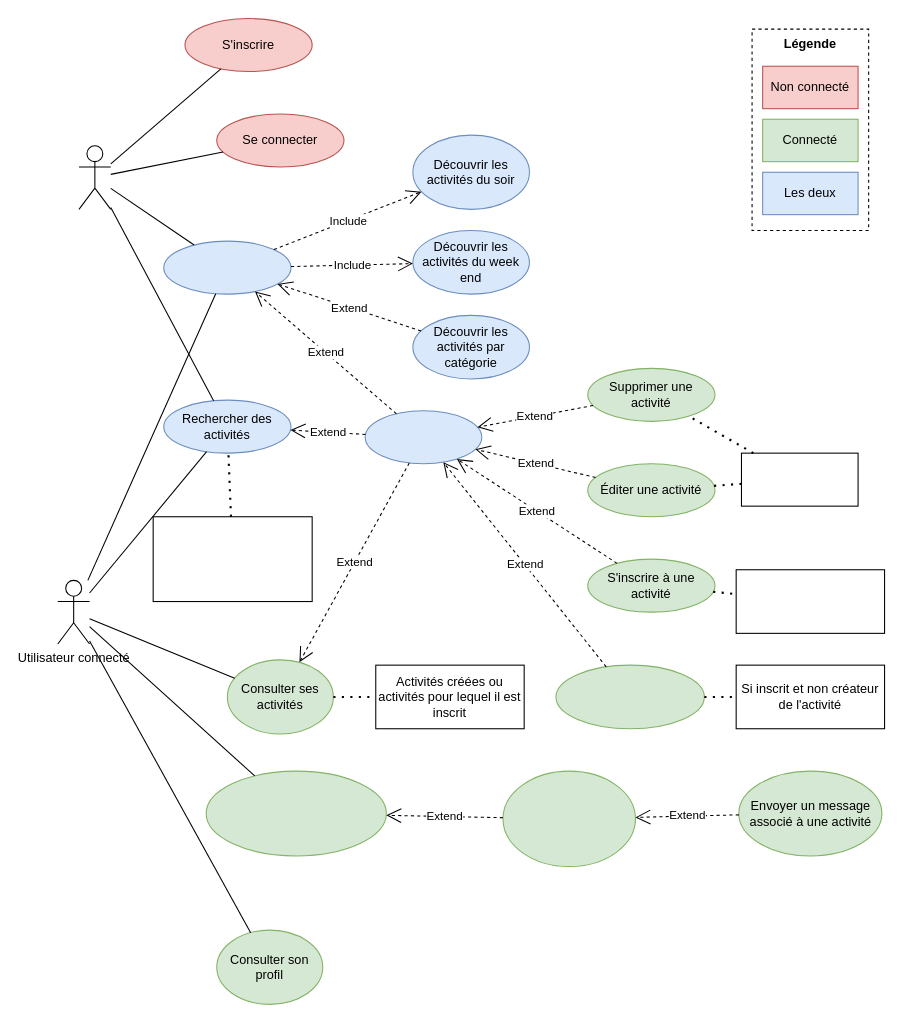
Some shapes in this 903 by 1023 pixel diagram are drawn without their labels. The shapes that lost their labels are listed below. From the top down, each one's centre as x and y in pixels, then its label:
At pixel 94 177: "Utilisateur non connecté".
At pixel 227 267: "Découvrir des activités".
At pixel 423 437: "Consulter une activité".
At pixel 799 479: "Si créateur de l'activité".
At pixel 232 559: "Par mots clés (titre, description, lieu), dates, categorie, coût, nb de personne".
At pixel 810 601: "Si non inscrit, non créateur de l'activité et place restante > 0".
At pixel 629 696: "Se désinscrire à une activité".
At pixel 295 813: "Consulter la liste des conversations par activité".
At pixel 568 818: "Consulter les messages d'une activité".
